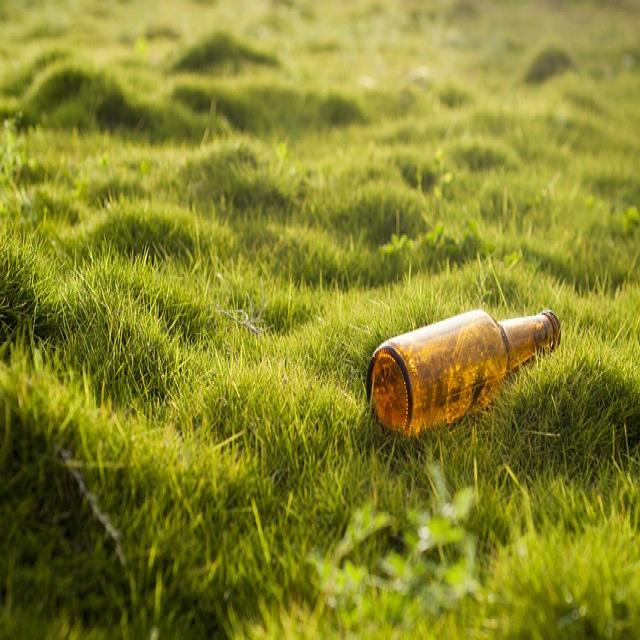glass: (352, 316, 561, 434)
